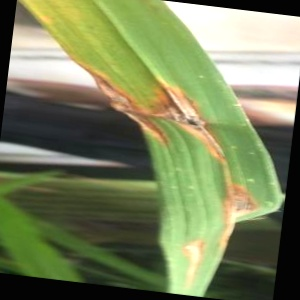Brown_Spot: (66, 65, 169, 148), (145, 73, 230, 171), (214, 177, 272, 247), (164, 224, 214, 287)
